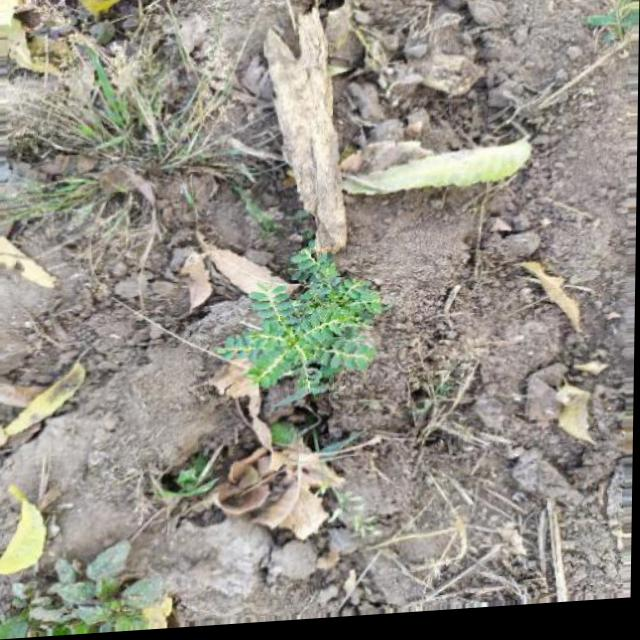weed: (8, 22, 290, 217), (184, 241, 393, 423), (0, 536, 174, 640)
